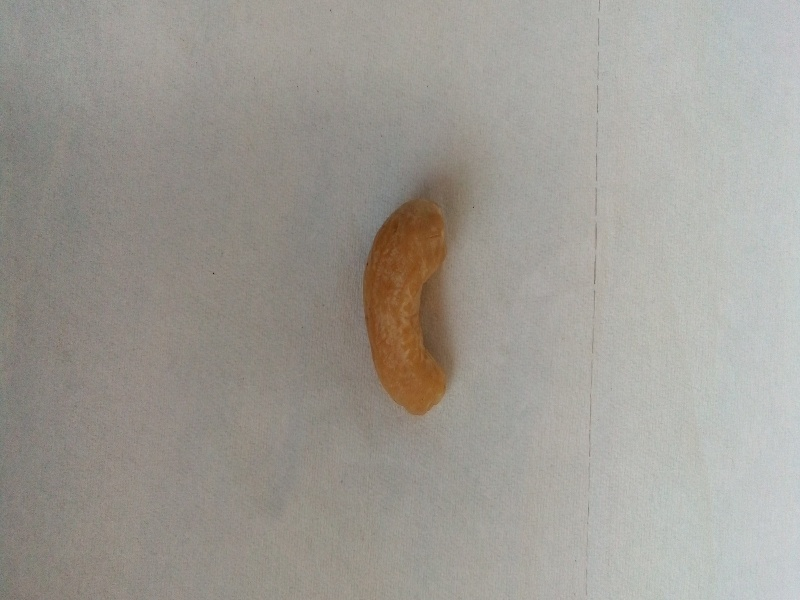cashew: (338, 180, 492, 422)
